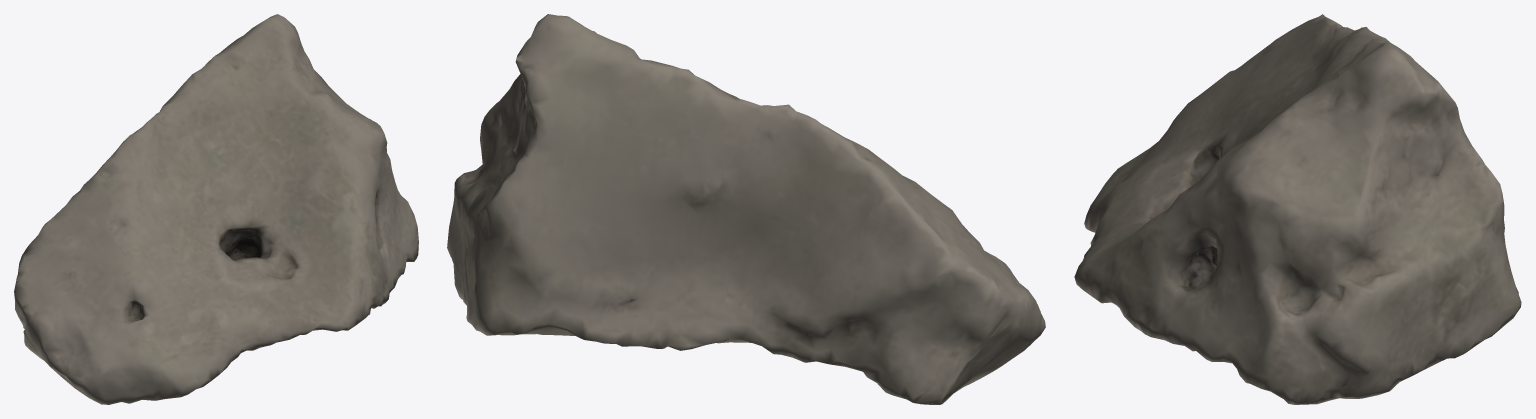
Rendered from moon_rock_07.glb.
3 renders of one model, left to right at view 1: azimuth 30°, elevation 25°; view 2: azimuth 150°, elevation 25°; view 3: azimuth 270°, elevation 25°, orthographic. The views are drawn at different scales.
Parts seen in each view (by area): view 1: lod0; view 2: lod0; view 3: lod0.
Part boxes in pixels (bbox=[...]): lod0: bbox=[14, 14, 418, 404]; lod0: bbox=[447, 14, 1045, 404]; lod0: bbox=[1074, 14, 1521, 404].
Size of what is drawn, in the model's own units: 2.6 by 1.62 by 1.98.
1 material, 1 textured.
